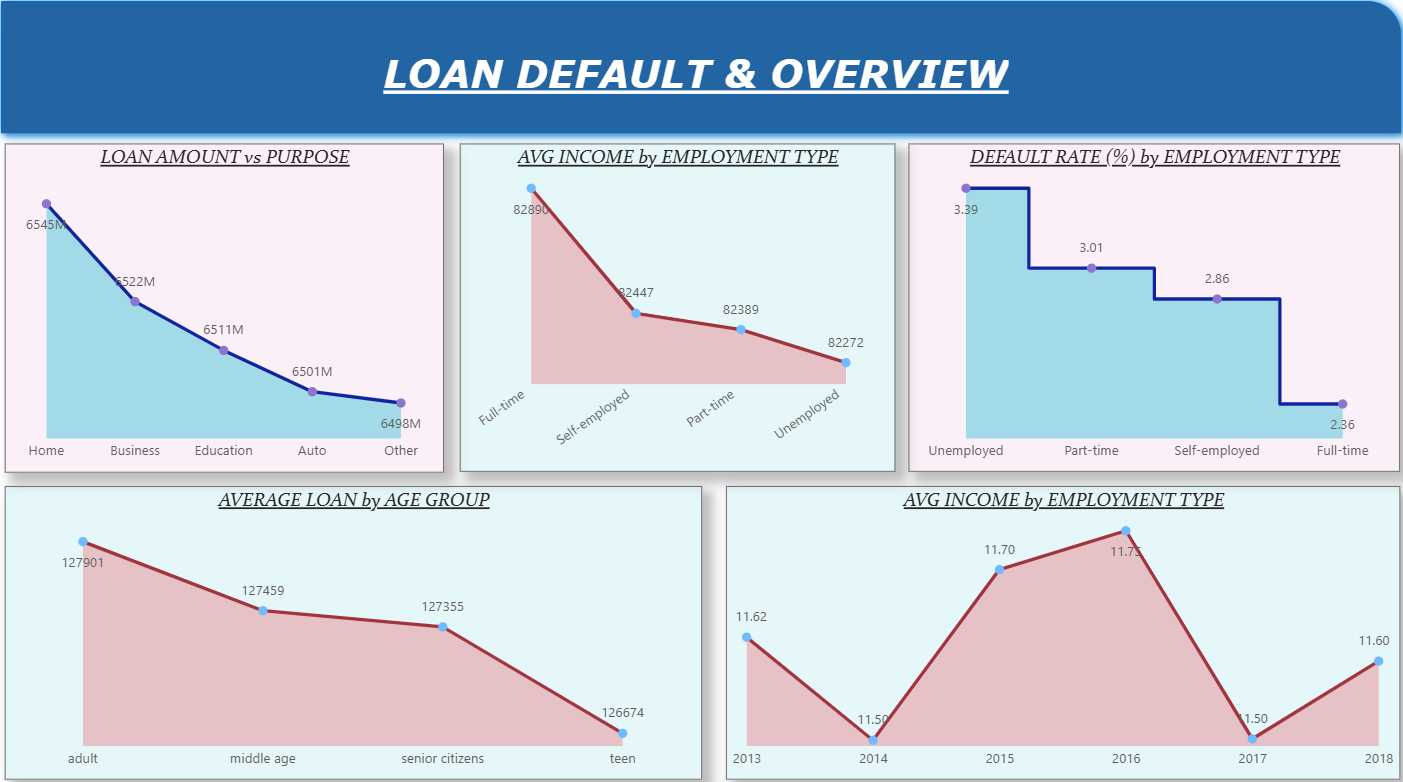

Layout of this report page (visuals, bound fields, positions):
{"tool":"powerbi","page":{"name":"LOAN DEFAULT OVERVIEW","canvas":[1280,720],"ordinal":0},"visuals":[{"type":"lineChart","title":"LOAN AMOUNT vs PURPOSE","fields":{"Y":["MEASURE.SUM OF LOAN AMOUNTS"],"Category":["Loan_default.LoanPurpose"]},"box":[12.4,137.5,395.6,296.4],"z":0},{"type":"shape","box":[0,0,1280.3,137.2],"z":1000},{"type":"lineChart","title":"AVG INCOME by EMPLOYMENT TYPE","fields":{"Y":["MEASURE.AVG INCOME"],"Category":["Loan_default.EmploymentType"]},"box":[422.6,137.2,392.5,296.4],"z":2000},{"type":"lineChart","title":"DEFAULT RATE (%) by EMPLOYMENT TYPE","fields":{"Category":["Loan_default.EmploymentType"],"Y":["MEASURE.Default Rate(%) by Employment type"]},"box":[827.4,137.2,443.2,296.4],"z":3000},{"type":"lineChart","title":"AVERAGE LOAN by AGE GROUP","fields":{"Y":["MEASURE.1 Average Loan by Age Group"],"Category":["Loan_default.Age Groups"]},"box":[12.3,446,628.5,264.8],"z":4000},{"type":"lineChart","title":"AVG INCOME by EMPLOYMENT TYPE","fields":{"Category":["Loan_default.YEAR"],"Y":["MEASURE.Default Rate by Year"]},"box":[662.8,446,607.9,264.8],"z":5000}]}

Visuals, with their boxes in screenshot pixels (x1, y1, x2, y2), scaled from the page's 1280x720 canvas onto the 1403x782 screenshot:
"LOAN AMOUNT vs PURPOSE" lineChart: locate(14, 149, 447, 471)
shape: locate(0, 0, 1402, 149)
"AVG INCOME by EMPLOYMENT TYPE" lineChart: locate(463, 149, 893, 471)
"DEFAULT RATE (%) by EMPLOYMENT TYPE" lineChart: locate(907, 149, 1393, 471)
"AVERAGE LOAN by AGE GROUP" lineChart: locate(13, 484, 702, 772)
"AVG INCOME by EMPLOYMENT TYPE" lineChart: locate(726, 484, 1393, 772)
